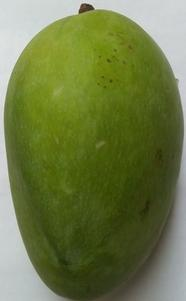Unripe: (1, 1, 186, 301)
